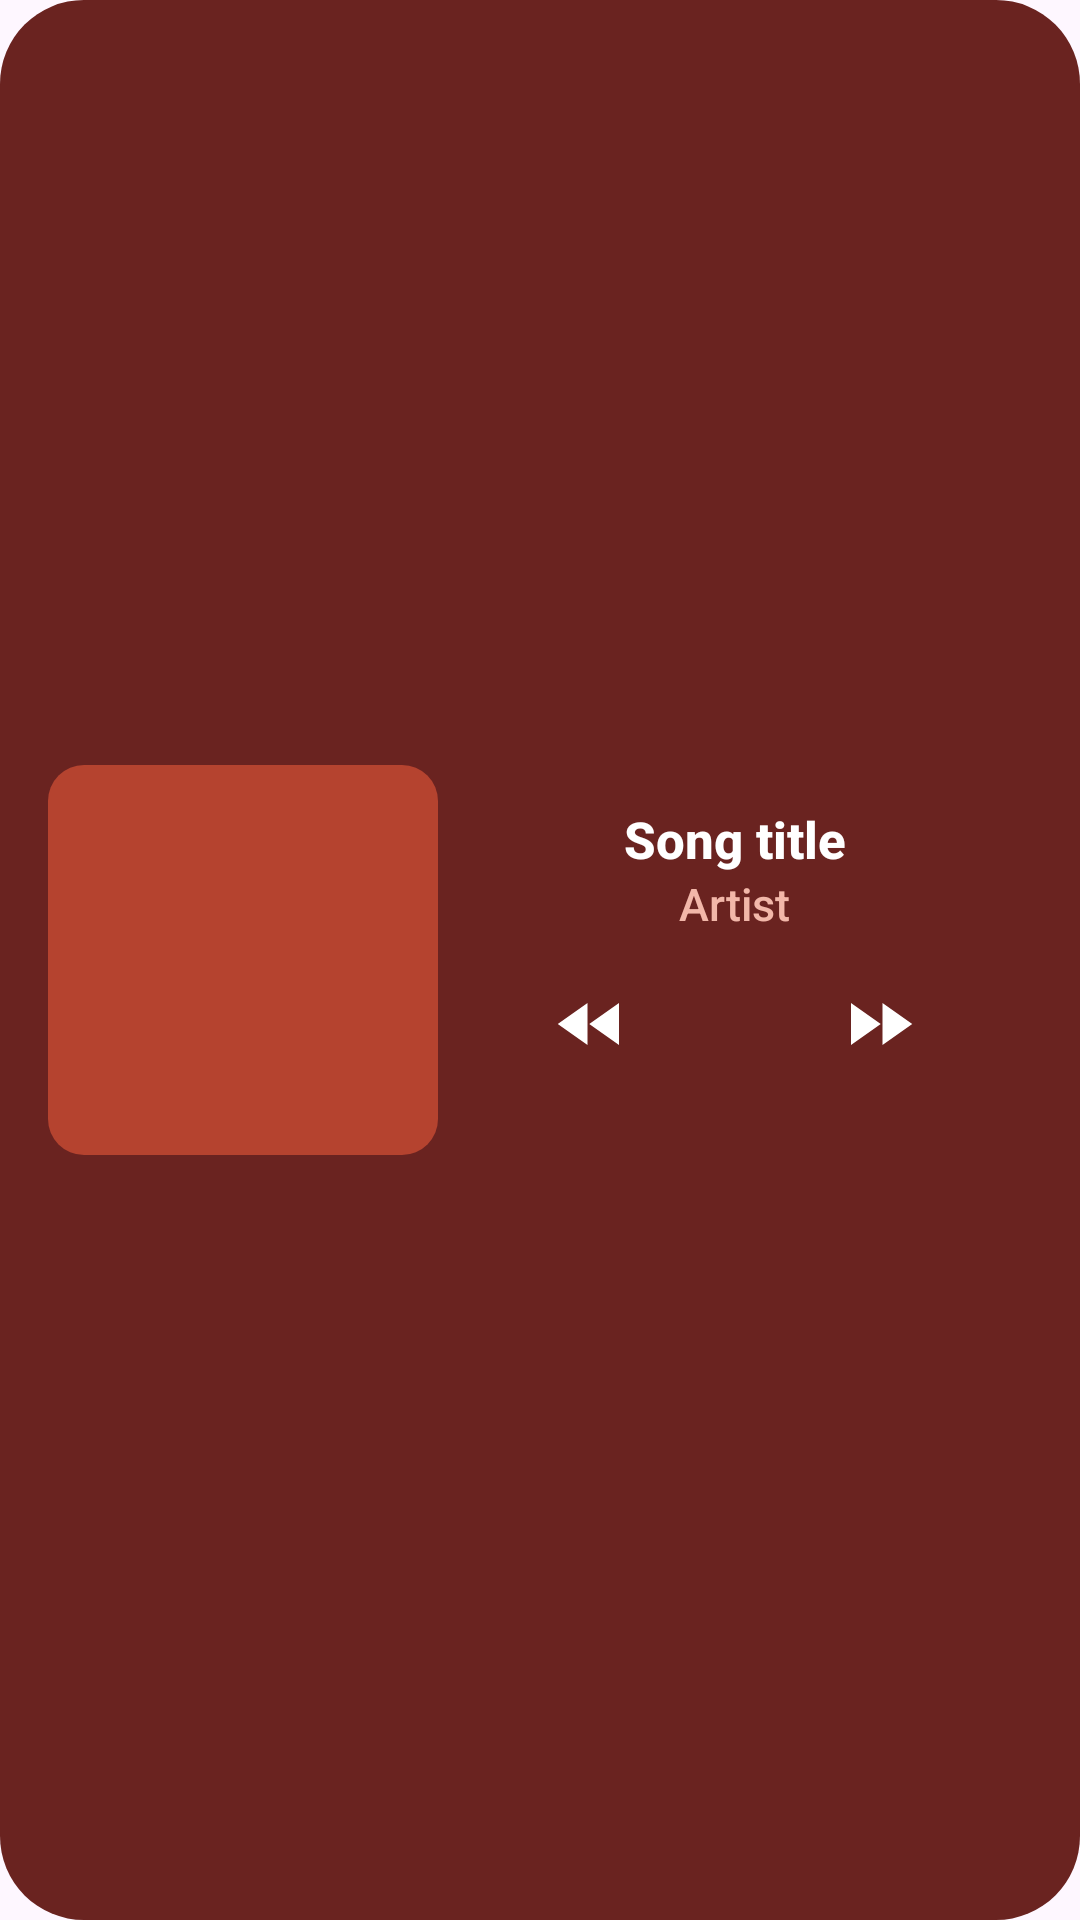

Point at icon controls on the screen. Image size 1080 x 1920, points as point (x, y).
widget forward: point (881, 1024)
widget rewind: point (588, 1024)
